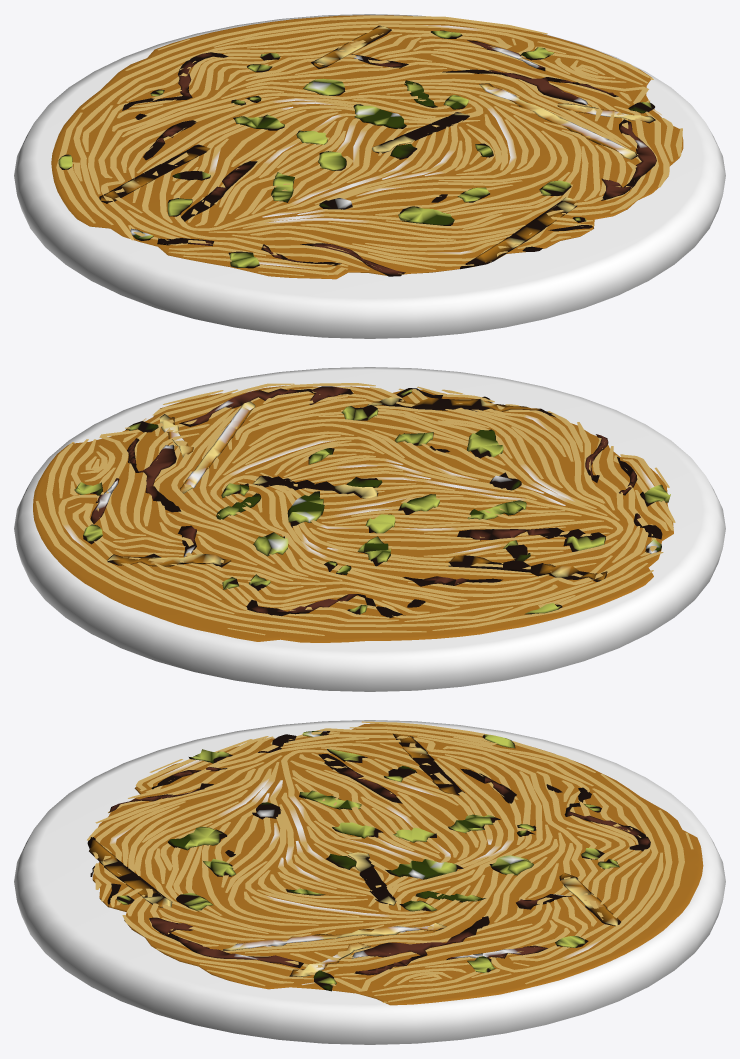
Rendered from SM_D16_wok.fbx.
3 renders of one model, top to bottom at view 1: azimuth 30°, elevation 25°; view 2: azimuth 150°, elevation 25°; view 3: azimuth 270°, elevation 25°, orthographic.
Visible parts, largest first — view 1: SM_D16_wok; view 2: SM_D16_wok; view 3: SM_D16_wok.
Boxes of the visible parts, x1=… form: SM_D16_wok: x1=14, y1=14, x2=725, y2=338; SM_D16_wok: x1=14, y1=367, x2=725, y2=691; SM_D16_wok: x1=14, y1=720, x2=725, y2=1044.
Bounding box in the file's own units: 0.158 × 0.0117 × 0.158.
